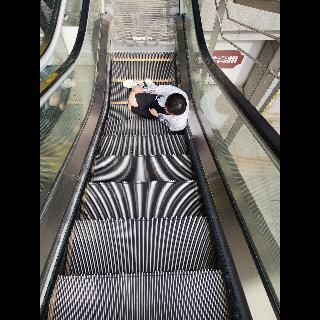anomaly: (118, 71, 194, 135)
